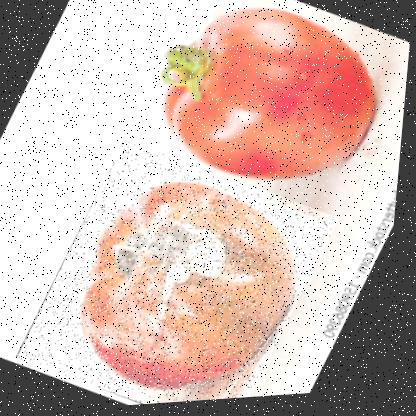tomato_rotten: (16, 128, 350, 413)
